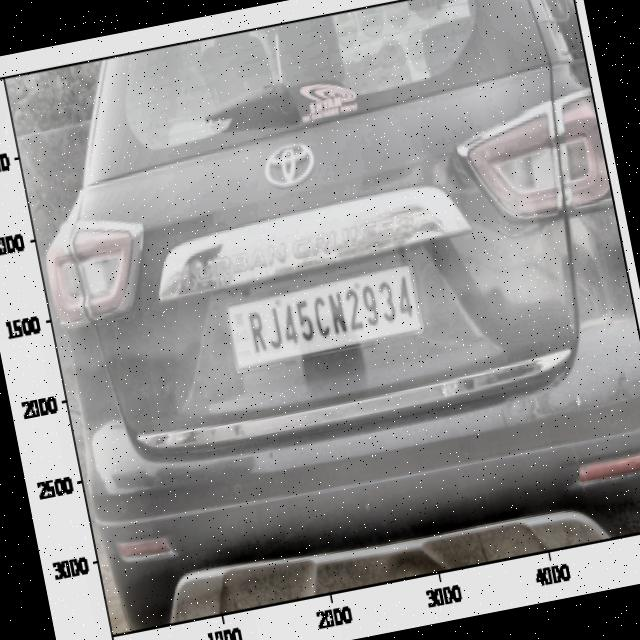license_plate: (238, 266, 425, 368)
